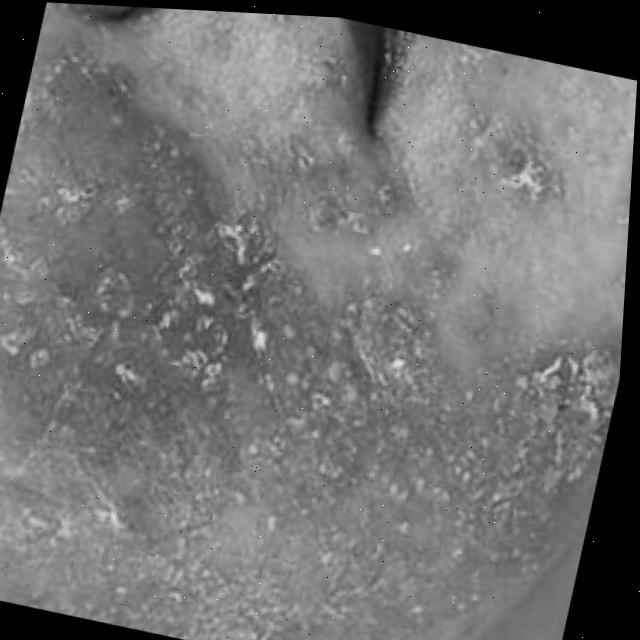Rosacea: (0, 47, 637, 640)
